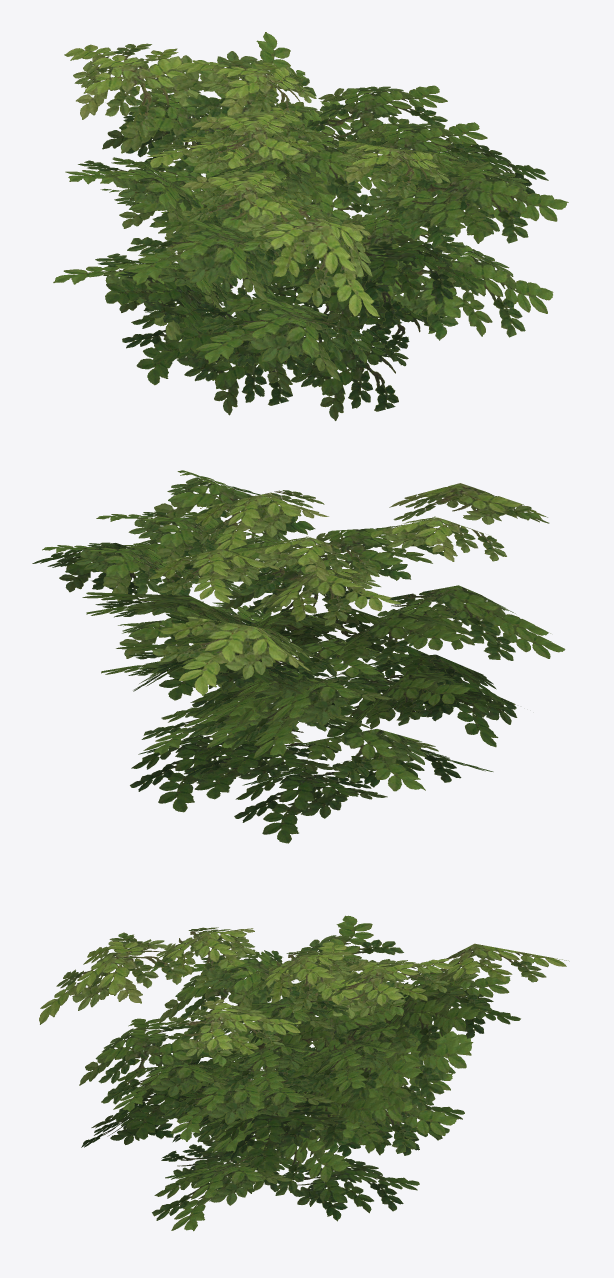
File: environment_Tree_red_002_a_6.fbx
The picture shows the model from 3 angles, top to bottom: view 1: azimuth 30°, elevation 25°; view 2: azimuth 150°, elevation 25°; view 3: azimuth 270°, elevation 25°; orthographic projection. The views are drawn at different scales.
Parts seen in each view (by area): view 1: DrawCall_0123; view 2: DrawCall_0123; view 3: DrawCall_0123.
Boxes of the visible parts, x1,y1,x2,y2 form: DrawCall_0123: [53, 32, 568, 420]; DrawCall_0123: [32, 470, 565, 843]; DrawCall_0123: [39, 915, 569, 1231].
Bounding box in the file's own units: 12.47 × 5.88 × 13.67.
1 material, 1 textured.
